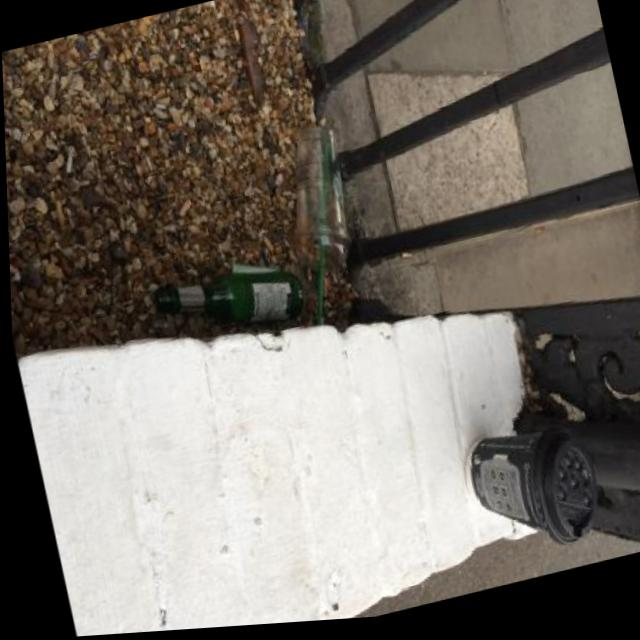cardboard: (456, 411, 608, 567)
glass: (150, 252, 308, 352)
plastic: (268, 118, 373, 330)
